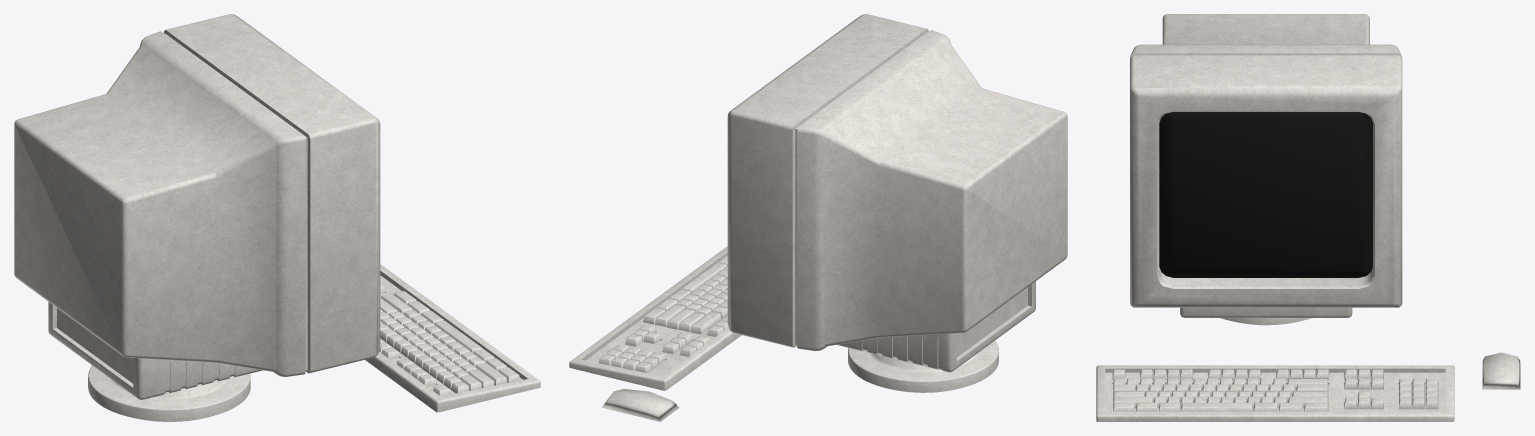
The model's file is Computer.fbx.
3 renders of one model, left to right at view 1: azimuth 30°, elevation 25°; view 2: azimuth 150°, elevation 25°; view 3: azimuth 270°, elevation 25°, orthographic. The views are drawn at different scales.
Visible parts, largest first — view 1: Monitor, Keys; view 2: Monitor, Keys, Mouse; view 3: Monitor, Keys, Mouse.
Part boxes in pixels (x1,y1,x2,y2): Monitor: (14, 14, 380, 421); Keys: (365, 264, 540, 412); Monitor: (727, 14, 1067, 392); Keys: (569, 246, 741, 390); Mouse: (601, 389, 679, 421); Monitor: (1130, 14, 1402, 325); Keys: (1096, 365, 1454, 421); Mouse: (1482, 352, 1520, 389).
Size of the model in its own units: 78.82 by 57.64 by 81.53.
Materials: 1 (1 with a texture image).
